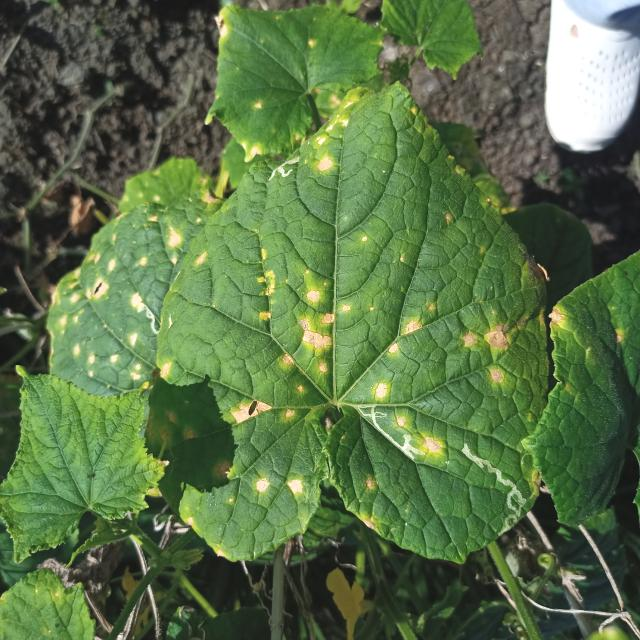disease_cucumber: (160, 245, 561, 498), (52, 203, 182, 396), (306, 100, 356, 184)
